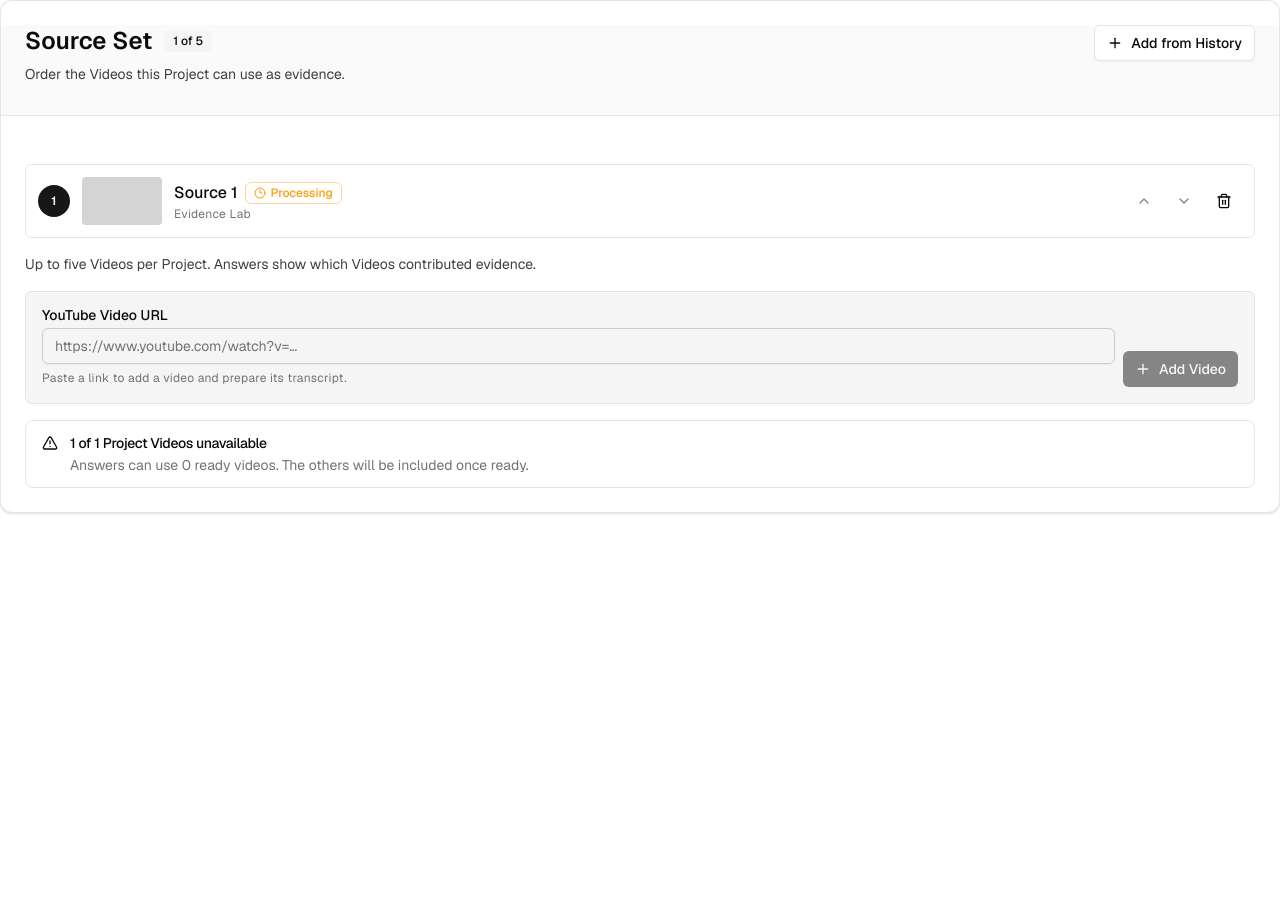
Test: ProjectSourceSet › keeps one visible actionable alert when readiness changes during add
The width and height of the screenshot is (1280, 900).
Click the button "Add from History" at (1175, 43), box [1094,25,1255,61]
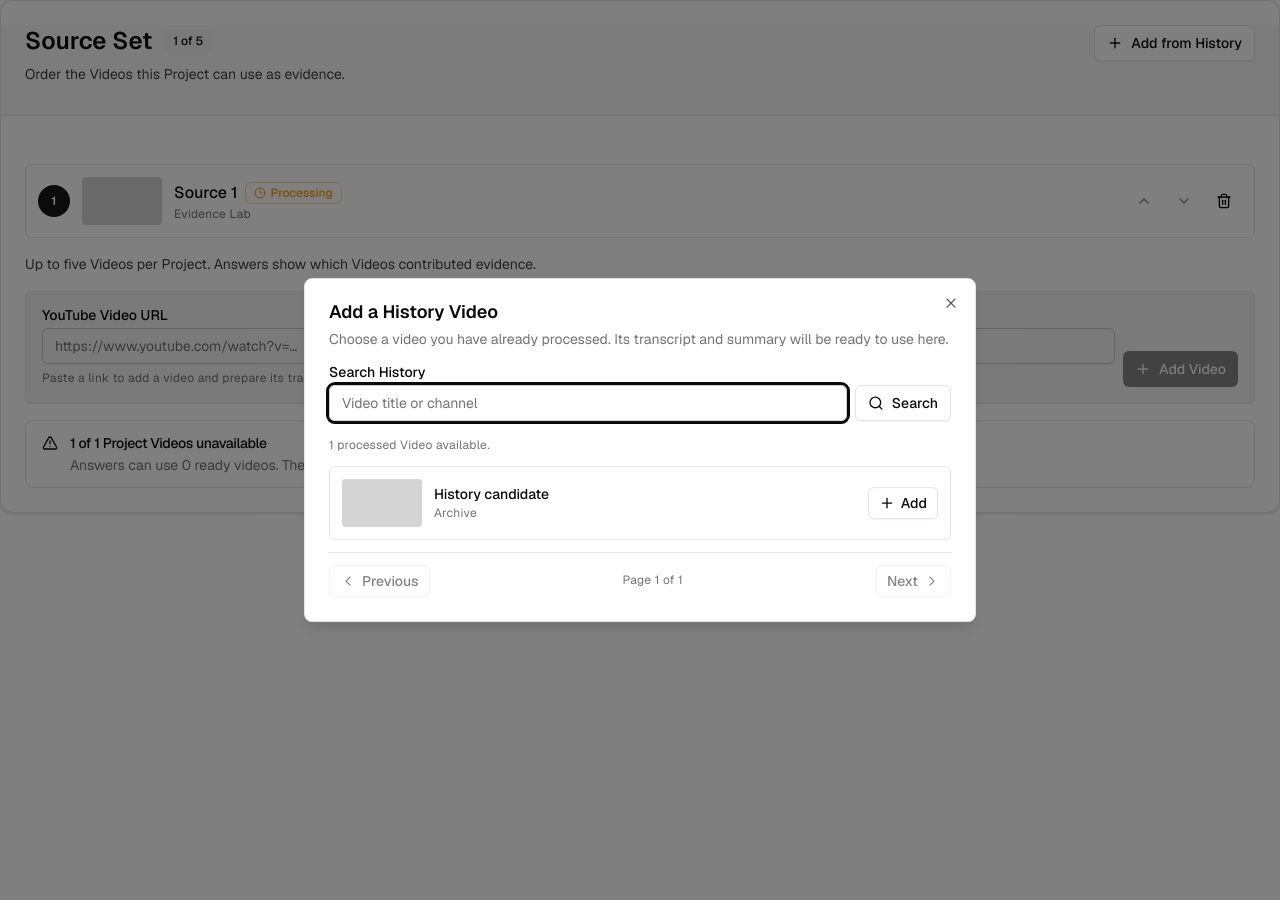
Click the button with aria-label "Add History candidate to Source Set" at (903, 503), box [868,487,938,519]
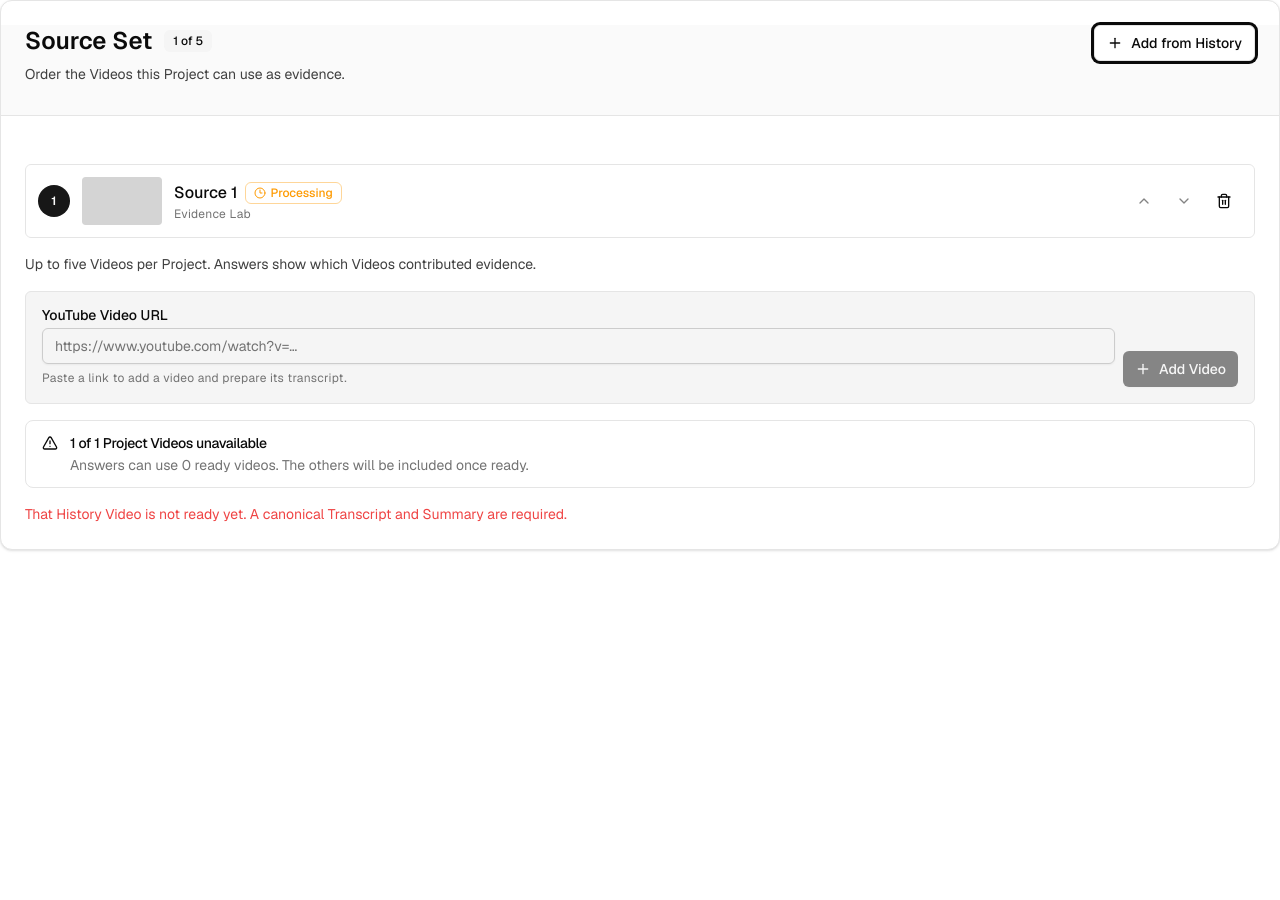
Expected: the element that starts with "Project Videos unavailable" is shown, [25,420,1255,488]
Expected: the 2nd message shows "That History Video is not ready yet.", [25,505,567,523]
